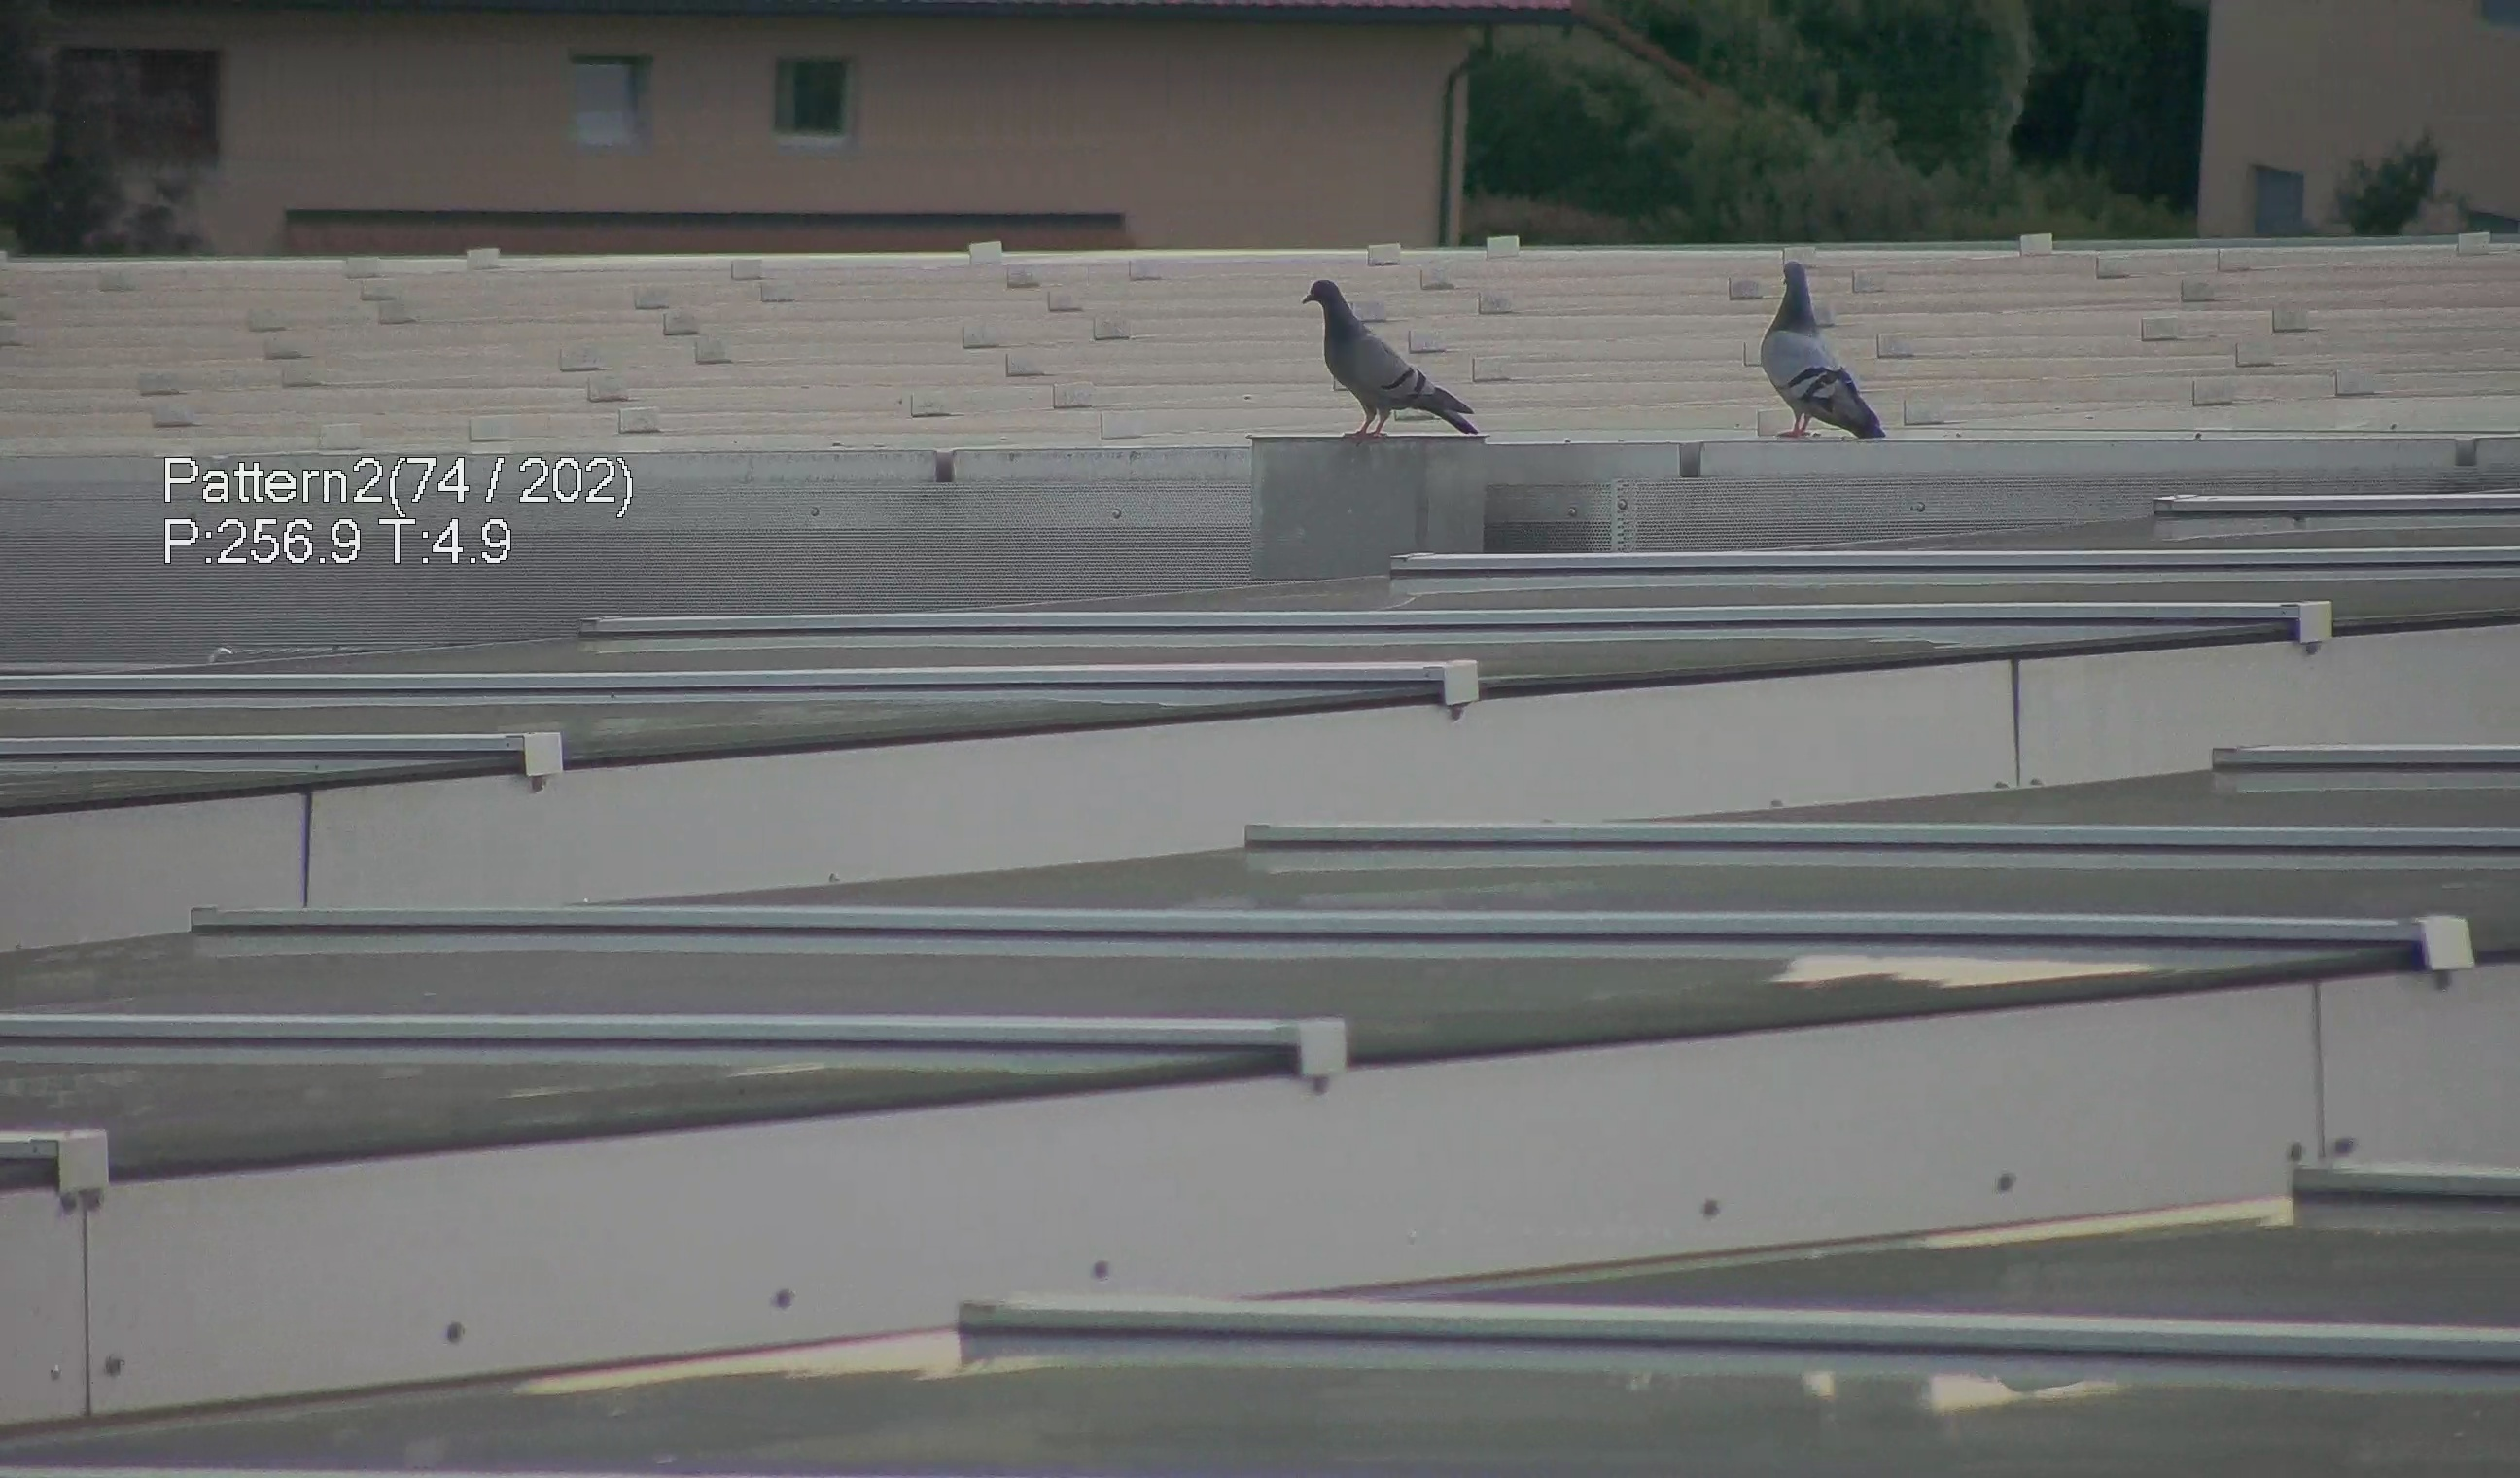Pigeon: (1285, 260, 1486, 449), (1743, 241, 1901, 443)
